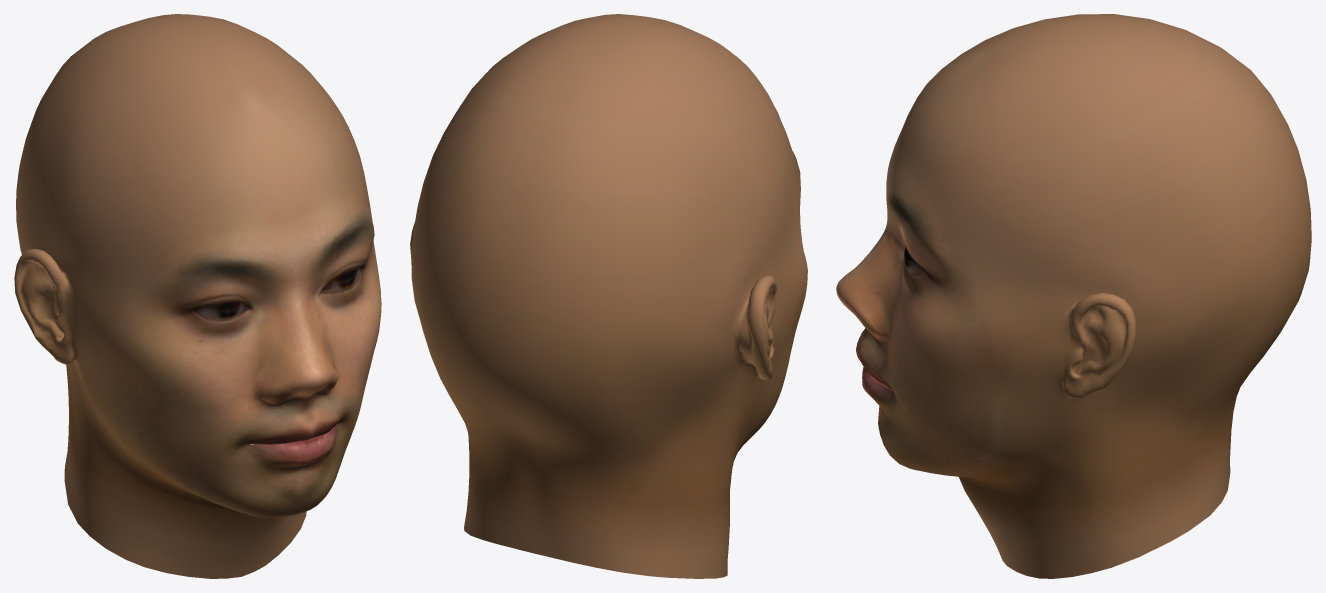
3 renders of one model, left to right at view 1: azimuth 30°, elevation 25°; view 2: azimuth 150°, elevation 25°; view 3: azimuth 270°, elevation 25°, orthographic. The views are drawn at different scales.
Parts seen in each view (by area): view 1: HeadHires; view 2: HeadHires; view 3: HeadHires.
Boxes of the visible parts, left/top/right/bottom form: HeadHires: left=14, top=14, right=381, bottom=578; HeadHires: left=410, top=14, right=807, bottom=578; HeadHires: left=836, top=14, right=1311, bottom=578.
Bounding box in the file's own units: 191 × 283 × 232.
1 material, 1 textured.
